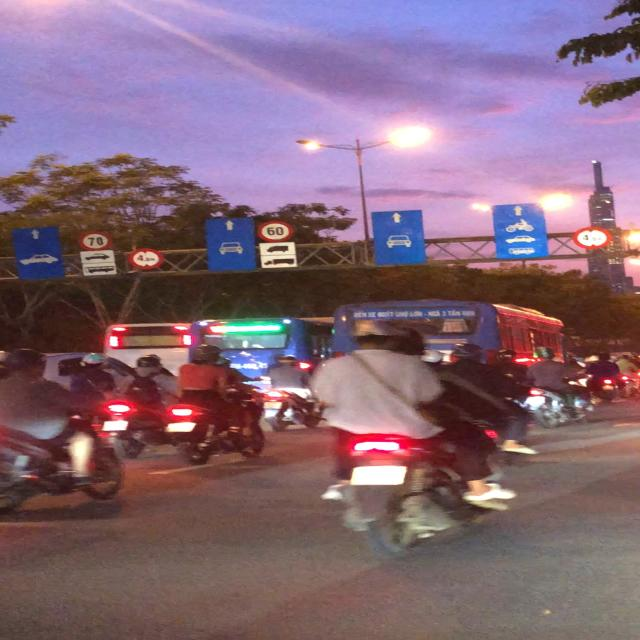Bien bao han che chieu cao: (568, 222, 613, 250), (128, 245, 164, 273)
Bien bao toc do toi da cho phep: (254, 221, 300, 243), (75, 230, 114, 250)
